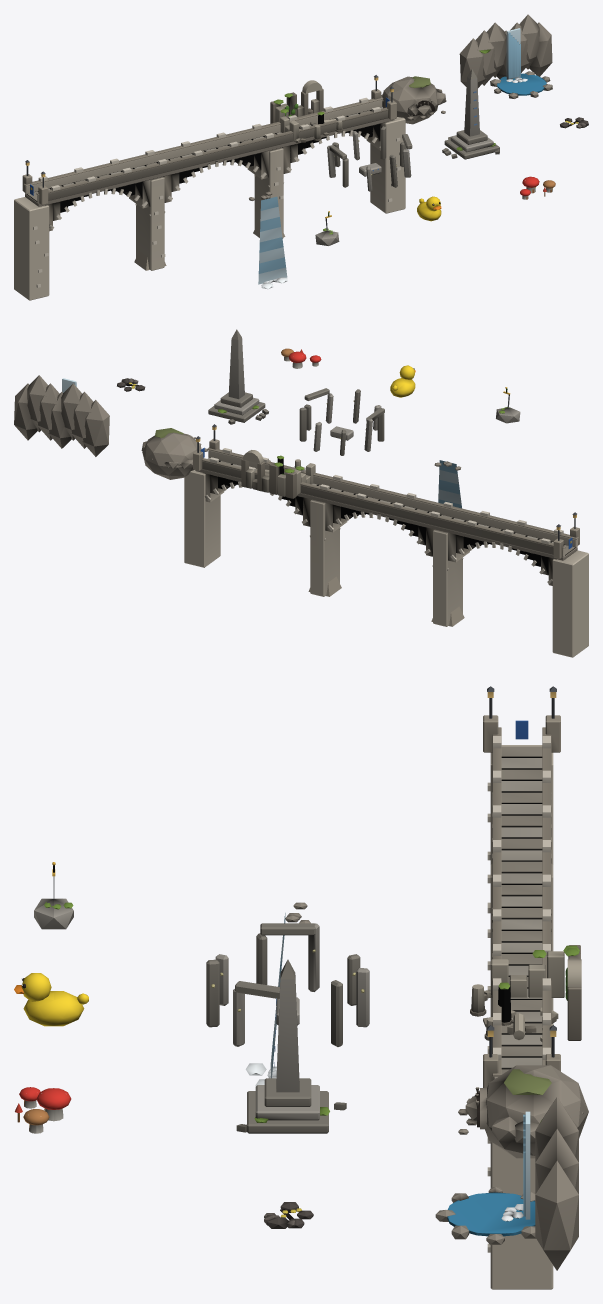
The model's file is landmarks.glb.
The picture shows the model from 3 angles, top to bottom: view 1: azimuth 30°, elevation 25°; view 2: azimuth 150°, elevation 25°; view 3: azimuth 270°, elevation 25°; orthographic projection. The views are drawn at different scales.
Parts seen in each view (by area): view 1: bridge, falls_hidden, falls_canyon, cave, monument, ruin, stones, egg_duck, egg_gnomes; view 2: bridge, falls_hidden, cave, ruin, stones, monument, falls_canyon, egg_duck, egg_gnomes; view 3: bridge, falls_hidden, stones, cave, monument, ruin, egg_duck, egg_gnomes, egg_sword, falls_canyon, vent.
Part boxes in pixels (left/top/right/bottom): bridge: left=14, top=75, right=405, bottom=300; falls_hidden: left=459, top=14, right=552, bottom=98; falls_canyon: left=249, top=191, right=287, bottom=289; cave: left=381, top=76, right=446, bottom=124; monument: left=442, top=69, right=499, bottom=159; ruin: left=270, top=80, right=343, bottom=142; stones: left=327, top=126, right=412, bottom=191; egg_duck: left=417, top=196, right=441, bottom=221; egg_gnomes: left=520, top=176, right=555, bottom=199; bridge: left=184, top=424, right=588, bottom=657; falls_hidden: left=14, top=375, right=109, bottom=456; cave: left=141, top=428, right=207, bottom=479; ruin: left=241, top=450, right=315, bottom=498; stones: left=299, top=388, right=384, bottom=455; monument: left=208, top=329, right=268, bottom=424; falls_canyon: left=434, top=460, right=461, bottom=508; egg_duck: left=390, top=365, right=415, bottom=397; egg_gnomes: left=281, top=348, right=321, bottom=368; bridge: left=483, top=686, right=560, bottom=1289; falls_hidden: left=435, top=1097, right=578, bottom=1270; stones: left=206, top=923, right=369, bottom=1046; cave: left=458, top=1065, right=588, bottom=1158; monument: left=236, top=959, right=346, bottom=1133; ruin: left=470, top=945, right=581, bottom=1041; egg_duck: left=14, top=973, right=88, bottom=1026; egg_gnomes: left=15, top=1087, right=71, bottom=1133; egg_sword: left=34, top=862, right=73, bottom=929; falls_canyon: left=245, top=902, right=310, bottom=1086; vent: left=264, top=1202, right=313, bottom=1228.
Bounding box in the file's own units: 21.17 × 6.53 × 9.83.
